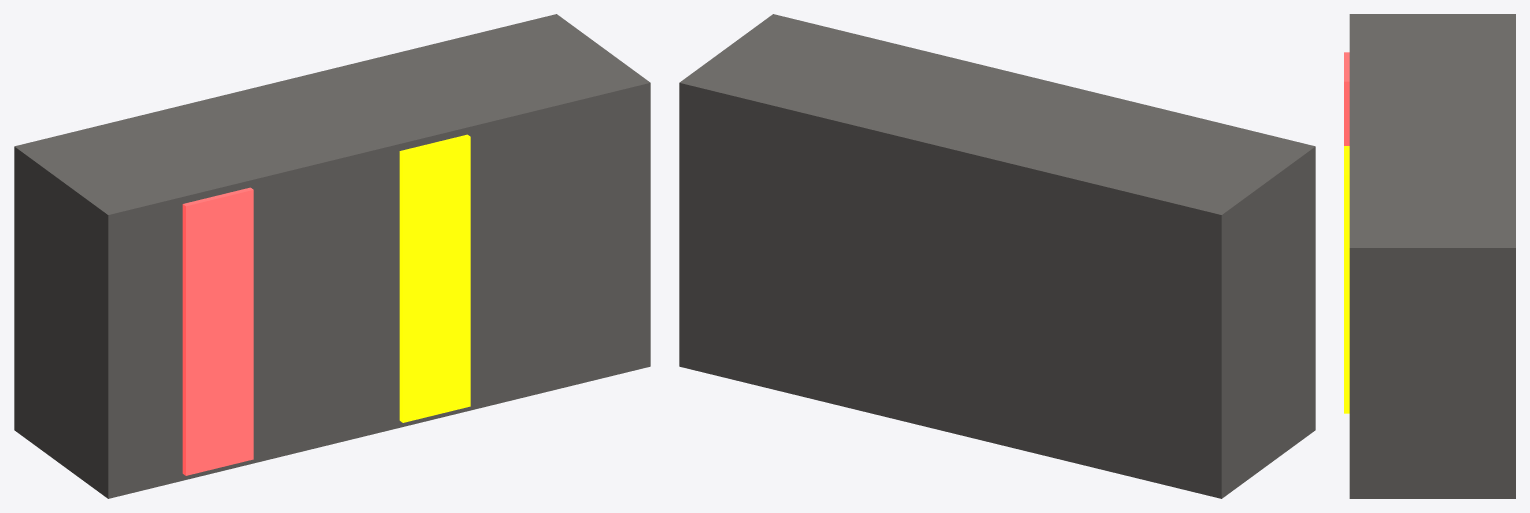
File: PROP_Barricade_Concrete.glb
The picture shows the model from 3 angles, left to right: view 1: azimuth 30°, elevation 25°; view 2: azimuth 150°, elevation 25°; view 3: azimuth 270°, elevation 25°; orthographic projection. The views are drawn at different scales.
Visible parts, largest first — view 1: PROP_Barricade_Concrete; view 2: PROP_Barricade_Concrete; view 3: PROP_Barricade_Concrete.
Boxes of the visible parts, left/top/right/bottom form: PROP_Barricade_Concrete: left=14, top=14, right=650, bottom=498; PROP_Barricade_Concrete: left=679, top=14, right=1315, bottom=498; PROP_Barricade_Concrete: left=1344, top=14, right=1515, bottom=498.
Size of the model in its own units: 2 by 1 by 0.62.
